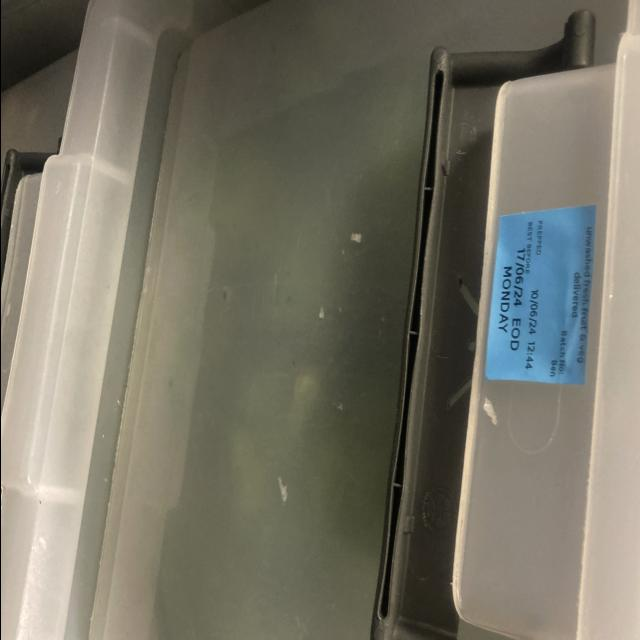product-labels: (484, 200, 596, 386)
